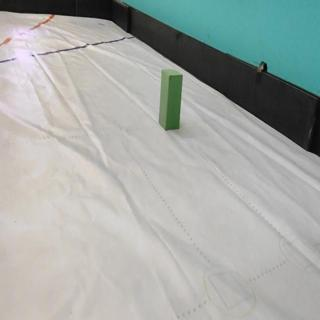greenbox: (157, 68, 185, 130)
